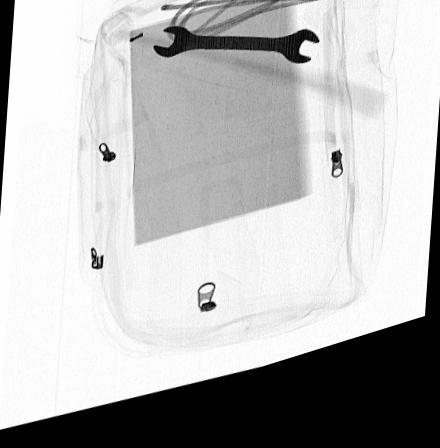Wrench: (152, 34, 322, 82)
